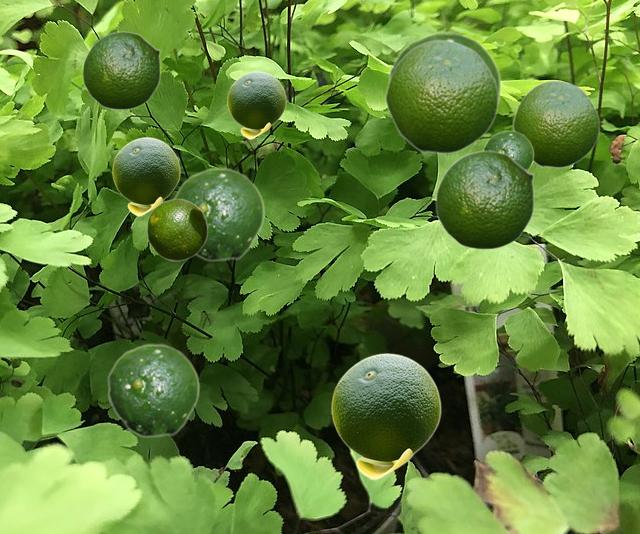calamansi: (331, 353, 440, 479), (384, 39, 498, 153), (435, 150, 534, 249), (388, 31, 501, 108), (172, 167, 264, 261), (107, 343, 199, 437), (512, 79, 599, 167), (82, 31, 160, 109), (112, 137, 179, 215), (227, 71, 285, 138), (146, 198, 207, 260), (483, 130, 533, 170)
